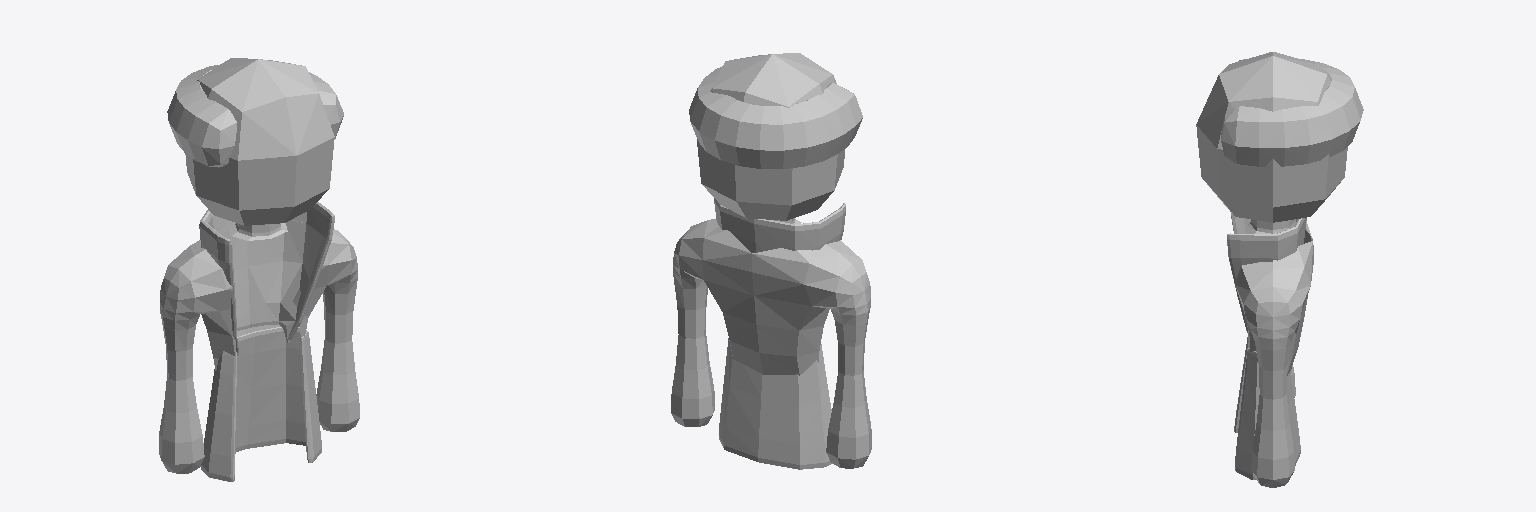
Rendered from PidKlayner(w).obj.
3 views of the same model, side by side, from view 1: azimuth 30°, elevation 25°; view 2: azimuth 150°, elevation 25°; view 3: azimuth 270°, elevation 25° (orthographic).
Visible parts, largest first — view 1: White_Cube.001; view 2: White_Cube.001; view 3: White_Cube.001.
Boxes of the visible parts, <box> form: White_Cube.001: <box>159,58,359,481</box>; White_Cube.001: <box>671,53,871,469</box>; White_Cube.001: <box>1196,52,1363,487</box>.
Bounding box in the file's own units: 1.1 × 2.13 × 0.8116.